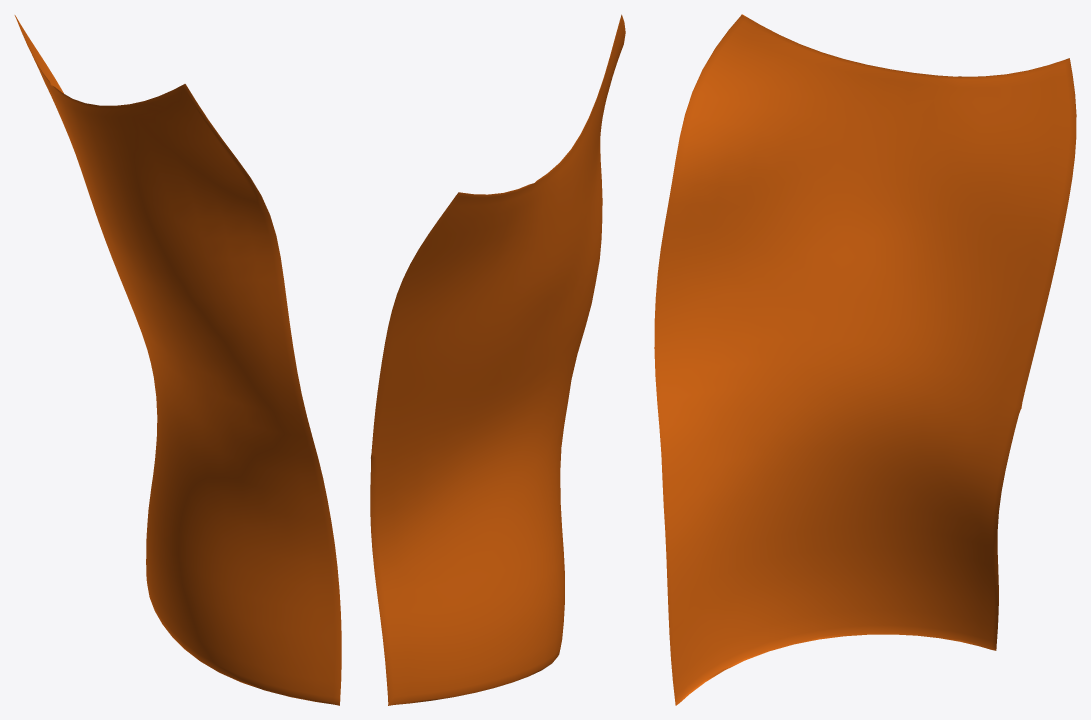
File: lateral-R.glb
3 views of the same model, side by side, from view 1: azimuth 30°, elevation 25°; view 2: azimuth 150°, elevation 25°; view 3: azimuth 270°, elevation 25° (orthographic). The views are drawn at different scales.
Visible parts, largest first — view 1: lateral-R; view 2: lateral-R; view 3: lateral-R.
Boxes of the visible parts, x1=… form: lateral-R: x1=14, y1=15, x2=341, y2=705; lateral-R: x1=370, y1=14, x2=625, y2=705; lateral-R: x1=654, y1=14, x2=1076, y2=705.
Bounding box in the file's own units: 0.0721 × 0.2912 × 0.1762.
